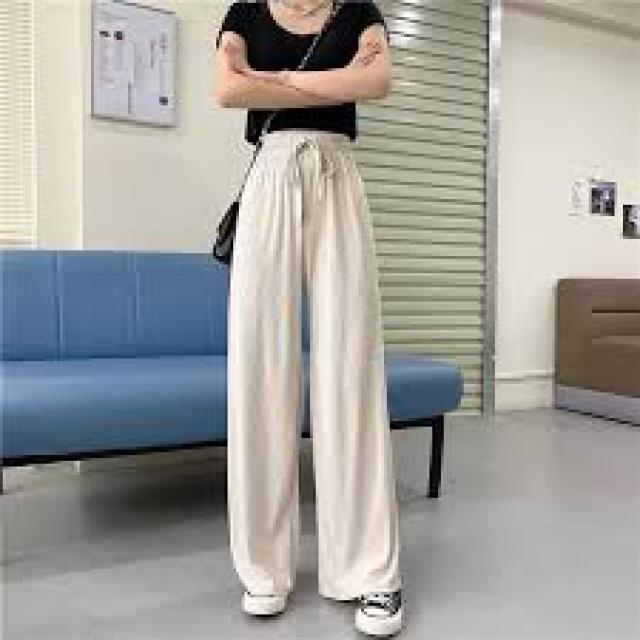long-pants: (225, 131, 403, 600)
